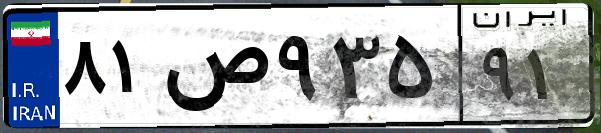1: (525, 38, 570, 115), (110, 28, 158, 98)
3: (330, 28, 385, 110)
5: (385, 28, 445, 110)
8: (57, 26, 110, 100)
9: (270, 28, 330, 110), (475, 38, 525, 113)
ص: (158, 20, 270, 120)
